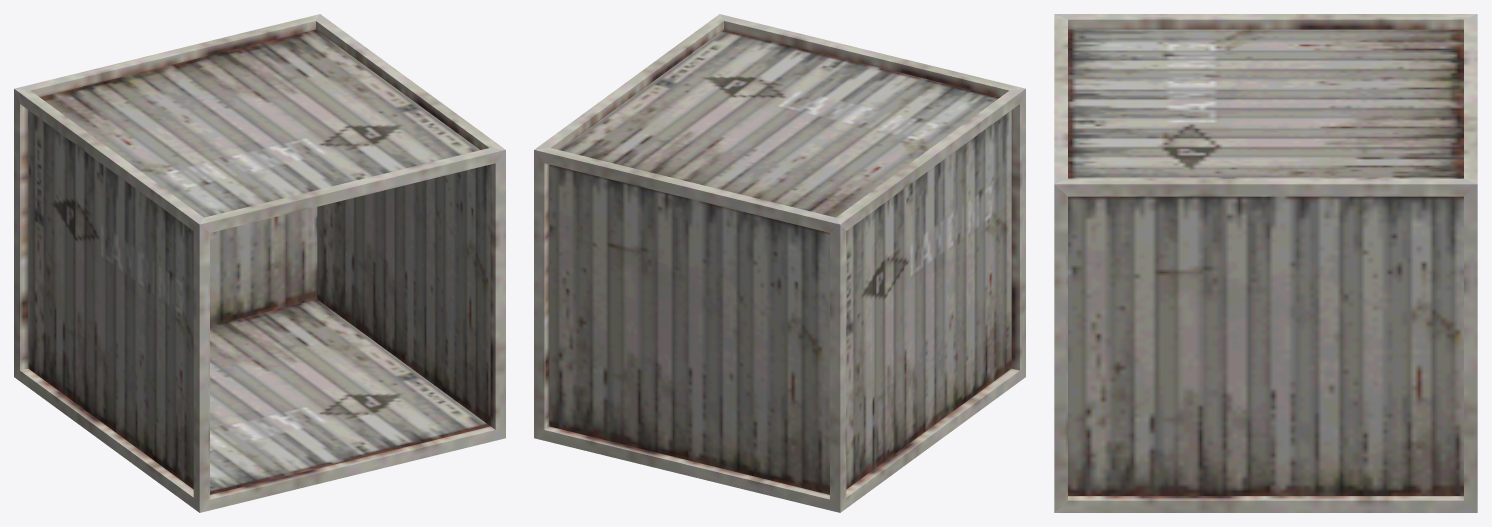
The model's file is containershedwhite003_containers_mobile_0_lev1.glb.
3 views of the same model, side by side, from view 1: azimuth 30°, elevation 25°; view 2: azimuth 150°, elevation 25°; view 3: azimuth 270°, elevation 25° (orthographic). The views are drawn at different scales.
Parts seen in each view (by area): view 1: containershedwhite003_containers_mobile_0_lev1; view 2: containershedwhite003_containers_mobile_0_lev1; view 3: containershedwhite003_containers_mobile_0_lev1.
Part boxes in pixels (left/top/right/bottom): containershedwhite003_containers_mobile_0_lev1: left=14, top=14, right=505, bottom=512; containershedwhite003_containers_mobile_0_lev1: left=534, top=14, right=1025, bottom=512; containershedwhite003_containers_mobile_0_lev1: left=1054, top=14, right=1477, bottom=512.
Bounding box in the file's own units: 1.78 × 1.61 × 1.87.
1 material, 1 textured.
